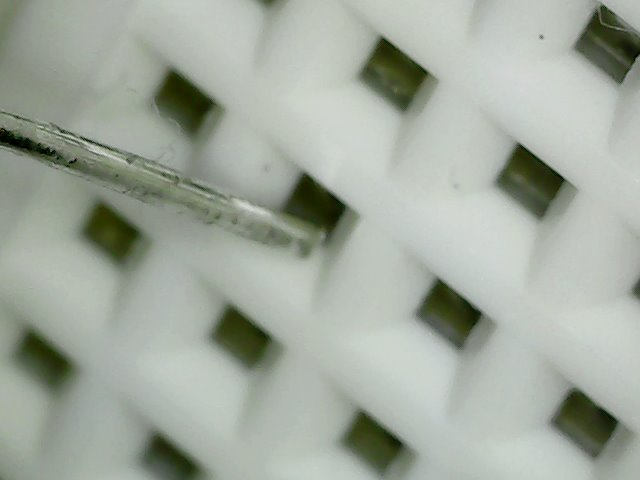faulty: (221, 144, 384, 305)
